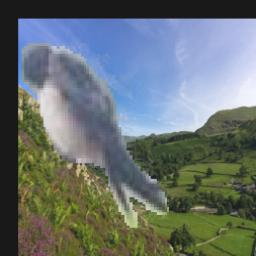Swallow: (21, 44, 169, 231)
